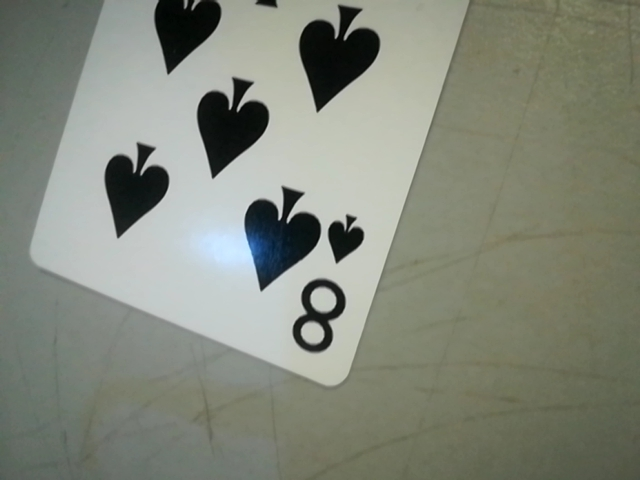ht 8: (287, 200, 369, 373)
